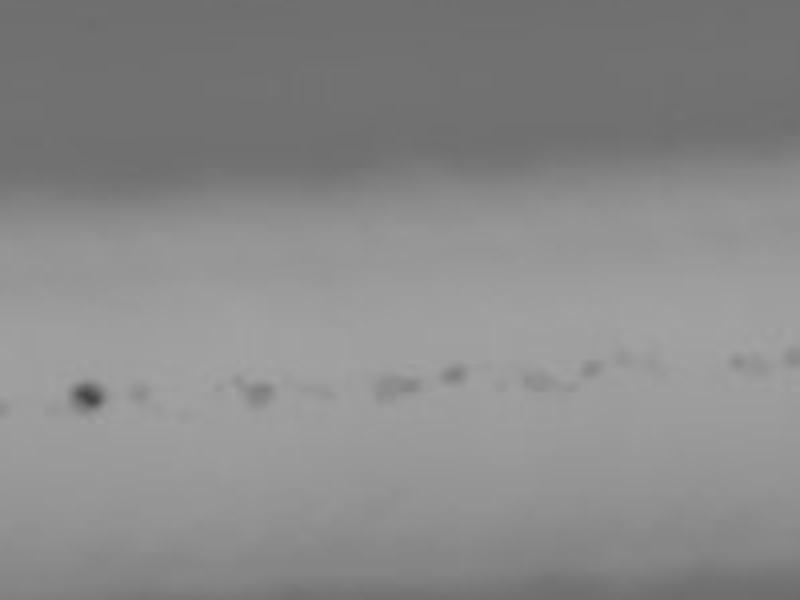defect: (242, 382, 278, 412), (72, 379, 105, 408), (368, 373, 400, 400), (523, 364, 552, 392), (126, 377, 153, 404), (439, 361, 464, 383), (557, 377, 582, 396), (726, 350, 748, 371), (782, 343, 800, 368), (751, 358, 769, 383), (580, 355, 602, 374), (402, 376, 423, 395), (613, 348, 633, 366), (230, 368, 245, 383)
